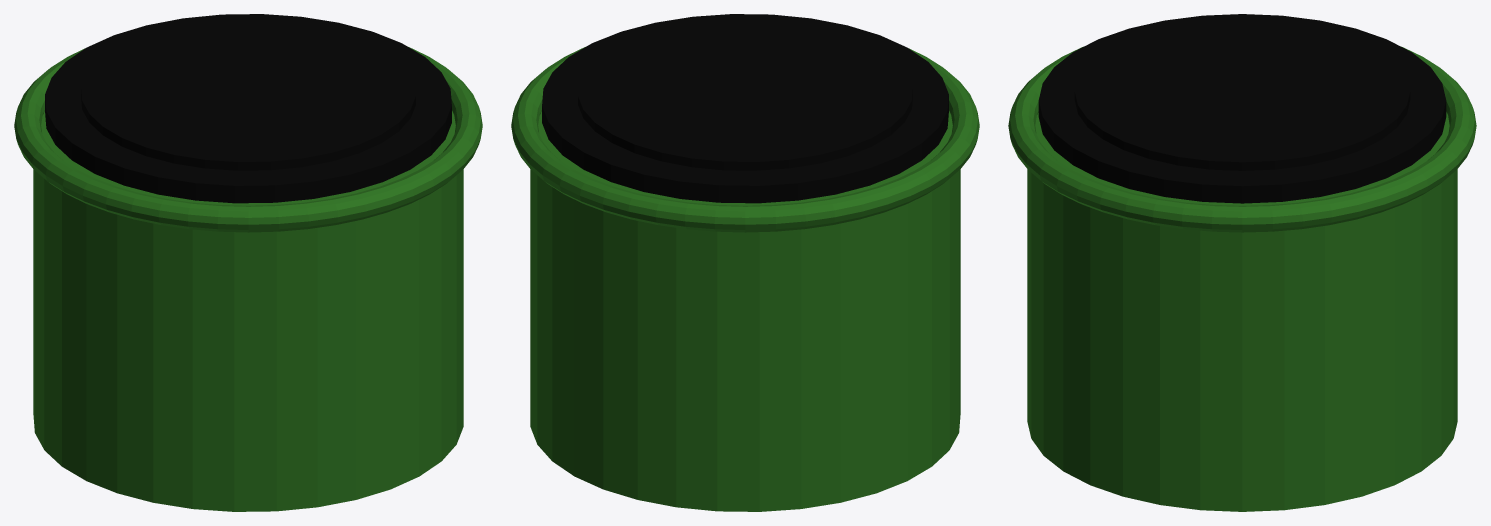
File: boteDeBasura.fbx
3 views of the same model, side by side, from view 1: azimuth 30°, elevation 25°; view 2: azimuth 150°, elevation 25°; view 3: azimuth 270°, elevation 25° (orthographic).
Visible parts, largest first — view 1: TrashCan_body, Lid_Base; view 2: TrashCan_body, Lid_Base; view 3: TrashCan_body, Lid_Base.
Boxes of the visible parts, <box> form: TrashCan_body: <box>14,47,482,511</box>; Lid_Base: <box>45,14,451,203</box>; TrashCan_body: <box>511,47,979,511</box>; Lid_Base: <box>542,14,948,203</box>; TrashCan_body: <box>1008,46,1476,511</box>; Lid_Base: <box>1038,14,1446,203</box>.
Bounding box in the file's own units: 174 × 135 × 174.
2 materials, 2 textured.
